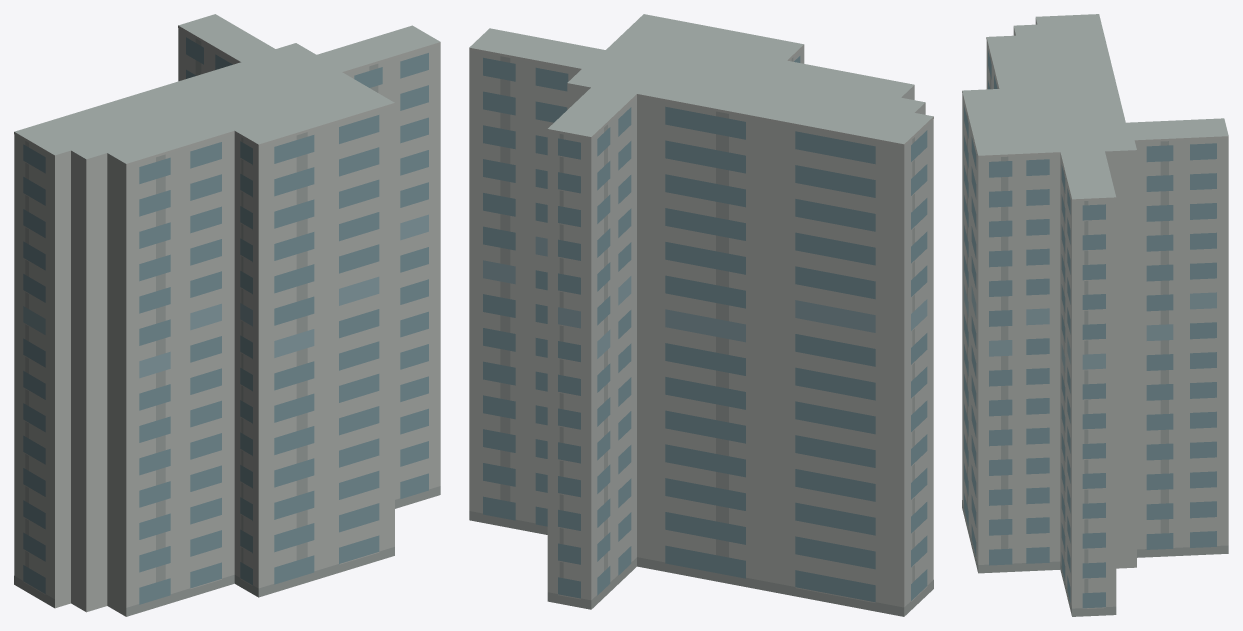
The model's file is residential-6685bba6-859d-42c2-98eb-b1bc8af593f3.glb.
3 renders of one model, left to right at view 1: azimuth 30°, elevation 25°; view 2: azimuth 150°, elevation 25°; view 3: azimuth 270°, elevation 25°, orthographic. The views are drawn at different scales.
Visible parts, largest first — view 1: residential-6685bba6-859d-42c2-98eb-b1bc8af593f3.tmp; view 2: residential-6685bba6-859d-42c2-98eb-b1bc8af593f3.tmp; view 3: residential-6685bba6-859d-42c2-98eb-b1bc8af593f3.tmp.
Boxes of the visible parts, box(x1,y1,x2,y2) form: residential-6685bba6-859d-42c2-98eb-b1bc8af593f3.tmp: box(14, 14, 440, 616); residential-6685bba6-859d-42c2-98eb-b1bc8af593f3.tmp: box(469, 14, 933, 616); residential-6685bba6-859d-42c2-98eb-b1bc8af593f3.tmp: box(962, 14, 1228, 616).
Bounding box in the file's own units: 41.88 × 44 × 25.47.
